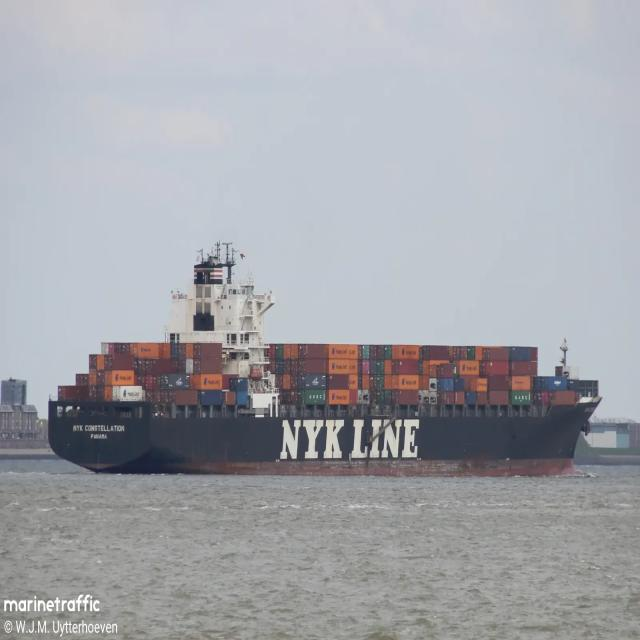Cargo: (48, 243, 601, 475)
